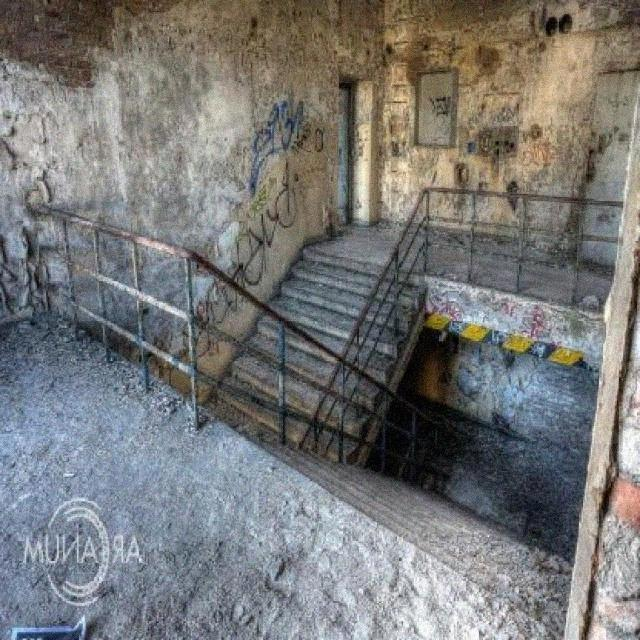stair: (214, 243, 429, 469)
